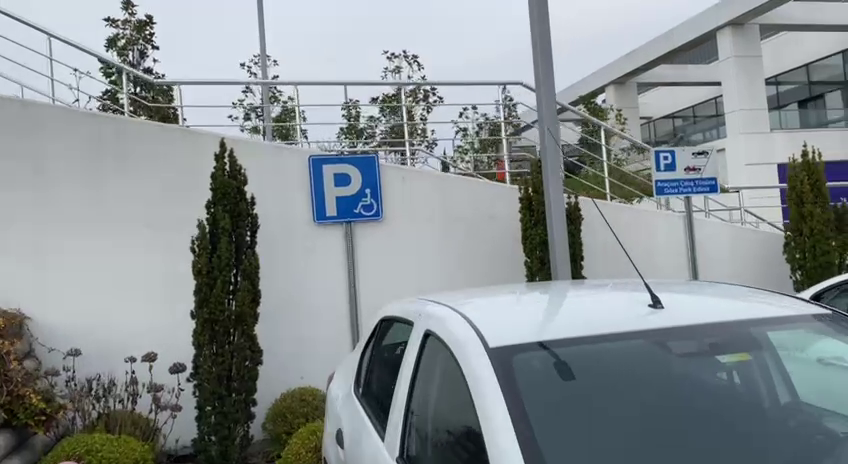parking: (308, 150, 383, 223), (653, 148, 677, 173)
